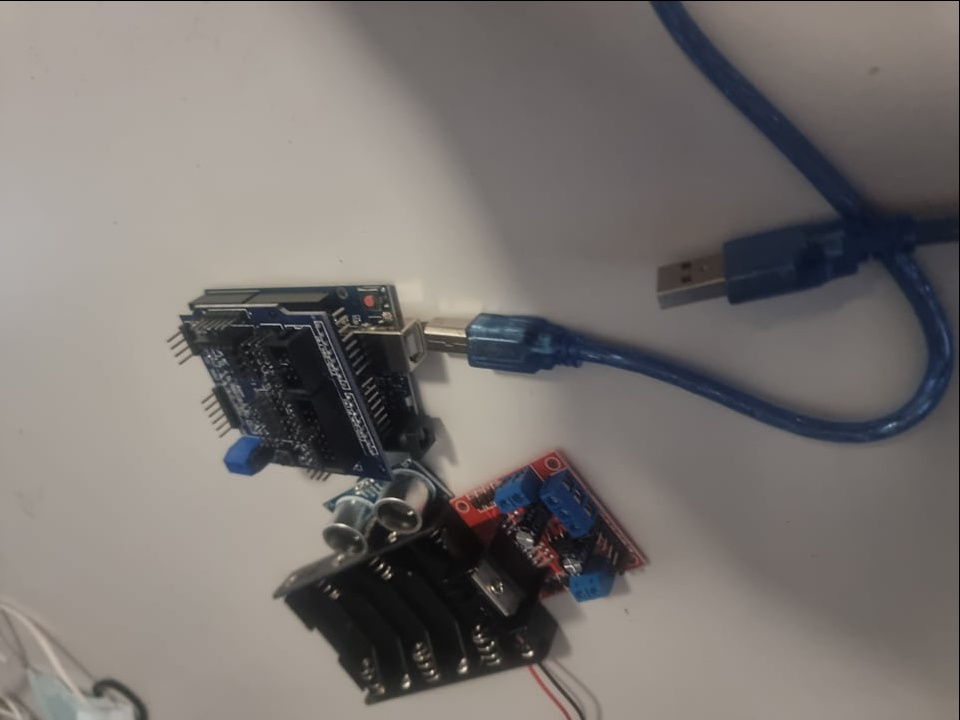5V EXPANSION: (176, 316, 364, 483)
BATTERY BOX: (273, 522, 551, 709)
MOTOR: (451, 449, 648, 624)
SENSOR: (317, 470, 447, 555)
UNO R3: (349, 269, 441, 462)
